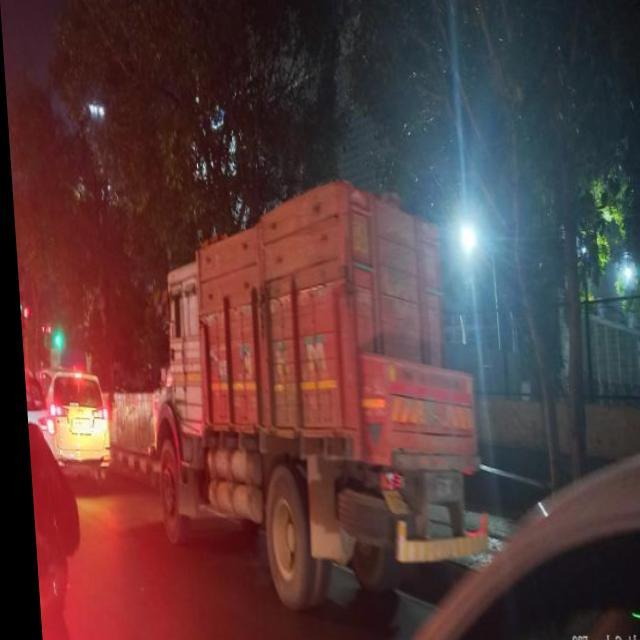uncovered: (152, 190, 488, 555)
